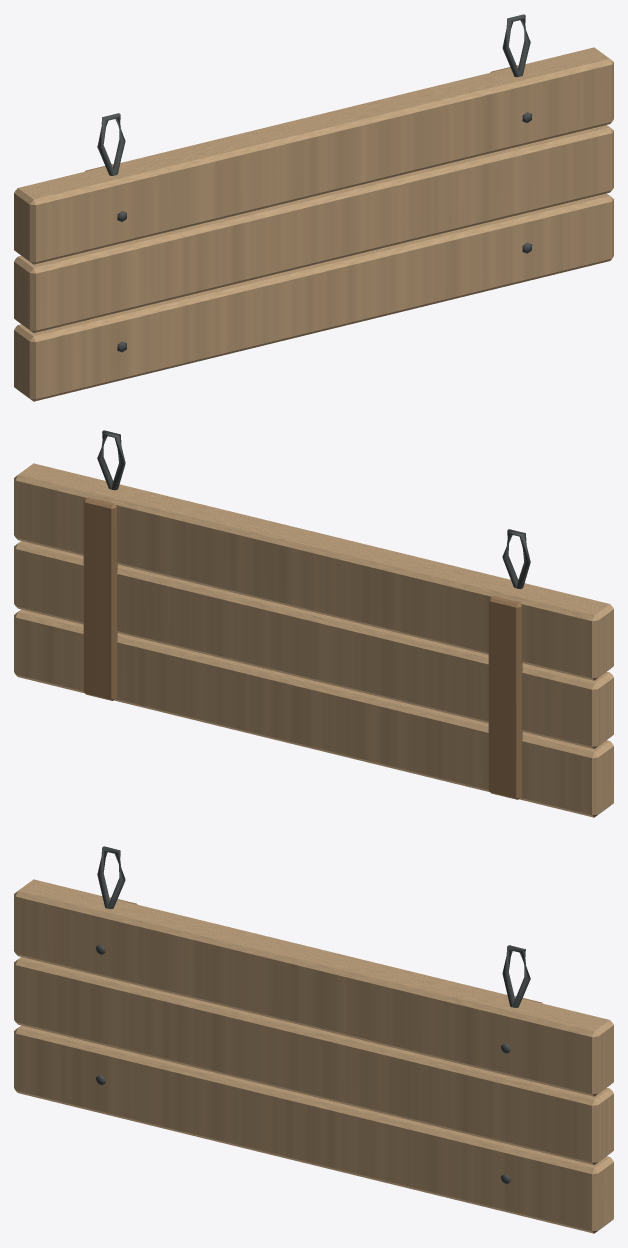
File: shop_sign.fbx
3 renders of one model, top to bottom at view 1: azimuth 30°, elevation 25°; view 2: azimuth 150°, elevation 25°; view 3: azimuth 330°, elevation 25°, orthographic.
Visible parts, largest first — view 1: shop_sign; view 2: shop_sign; view 3: shop_sign.
Boxes of the visible parts, left/top/right/bottom form: shop_sign: left=14, top=14, right=613, bottom=401; shop_sign: left=14, top=430, right=613, bottom=817; shop_sign: left=14, top=846, right=613, bottom=1233.
Size of the model in its own units: 0.75 by 0.318 by 0.0566.
Materials: 1 (1 with a texture image).
